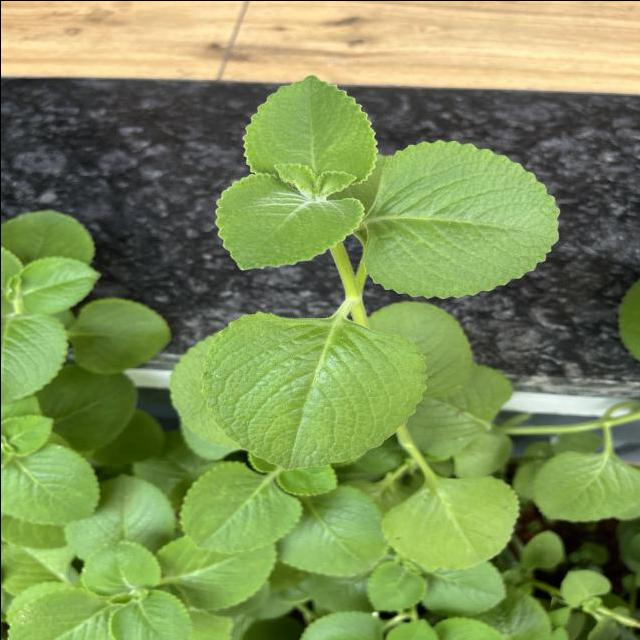Plectranthus barbatus: (198, 308, 428, 471), (360, 138, 560, 300), (213, 170, 365, 272), (238, 72, 378, 178), (378, 472, 520, 570), (177, 458, 302, 554), (61, 472, 178, 563), (274, 483, 387, 576), (0, 442, 102, 525), (71, 294, 172, 376), (80, 538, 162, 596)
